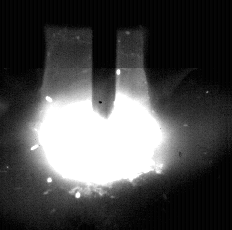arame: (93, 0, 116, 119)
poca: (37, 0, 164, 230)
